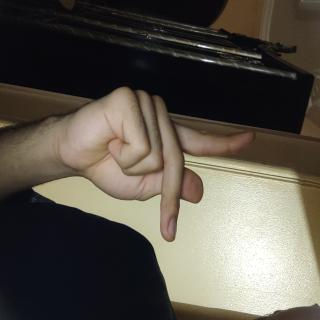DHAA: (56, 80, 185, 320)
